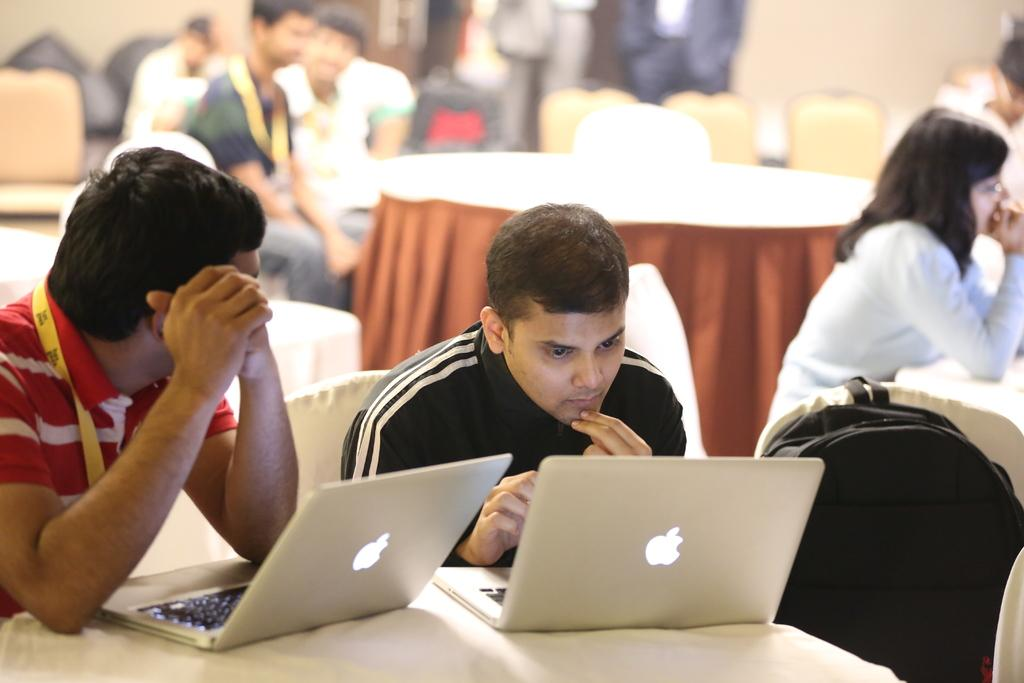Laptop: (108, 445, 540, 653), (431, 457, 821, 636)
